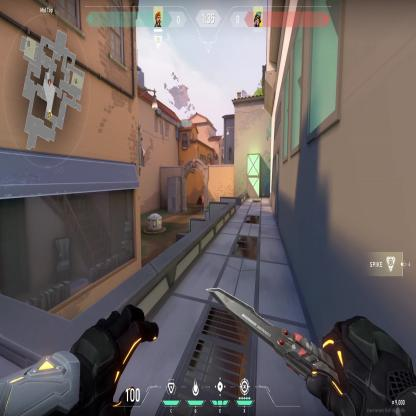enemy: (201, 193, 204, 211)
